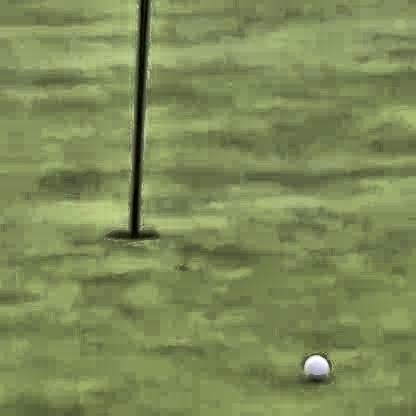golfball: (301, 348, 326, 378)
